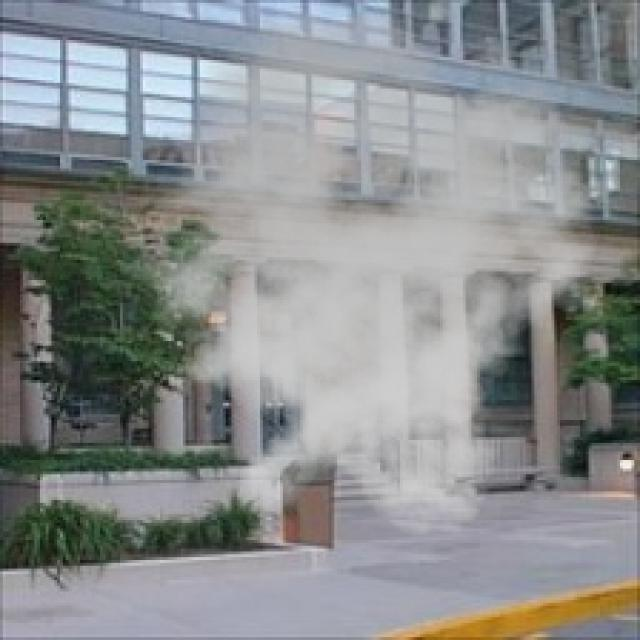Smoke: (94, 11, 626, 540)
